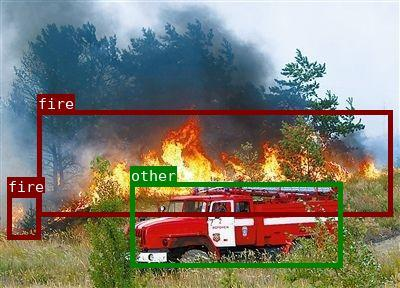fire: (37, 109, 392, 215), (7, 192, 40, 239)
other: (129, 181, 342, 267)
